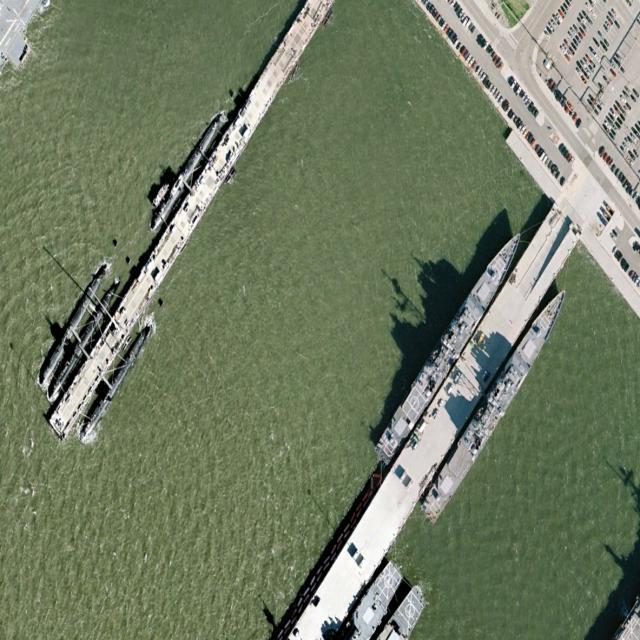Cruiser: (370, 220, 530, 470), (417, 277, 572, 529)
Submarine: (43, 272, 124, 402), (77, 317, 155, 447), (147, 109, 226, 237), (36, 260, 108, 390)
